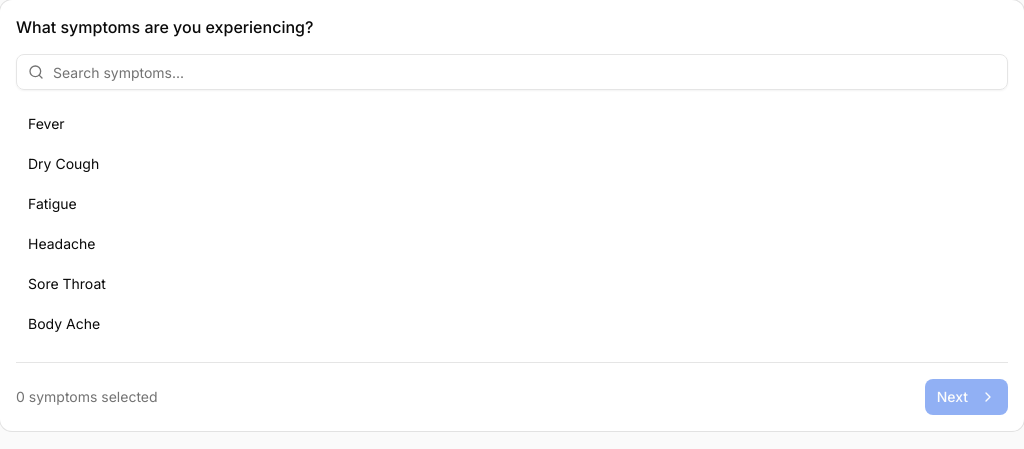
Test: SymptomSelectionStep › shows no results message when search has no matches
In the field with placeholder "Search symptoms...": (512, 72) [16,54,1008,90], type "xyznotasymptom"
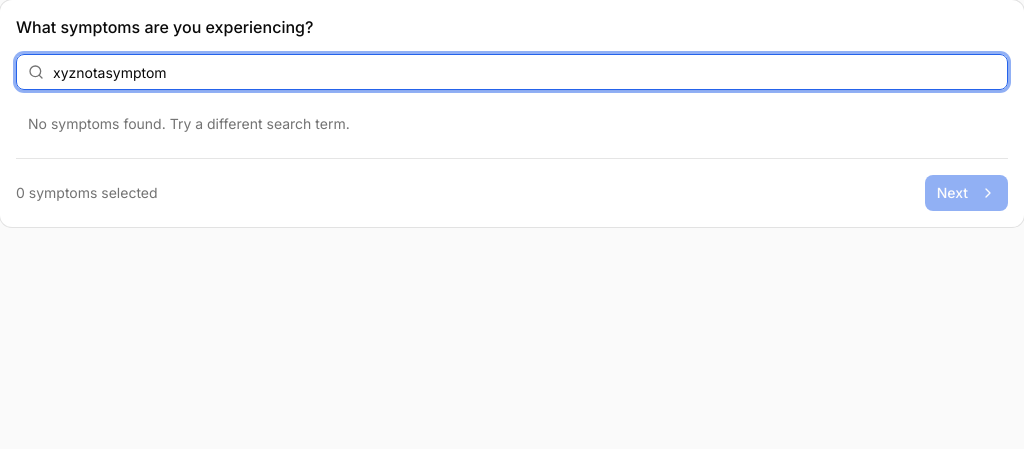
Expected: the text "No symptoms found. Try a different search term." is shown, [28,115,350,132]
